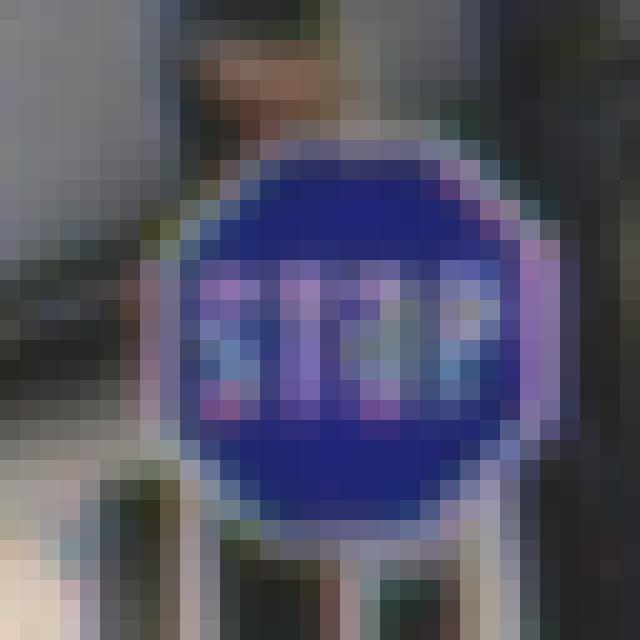STOP: (162, 148, 533, 539)
